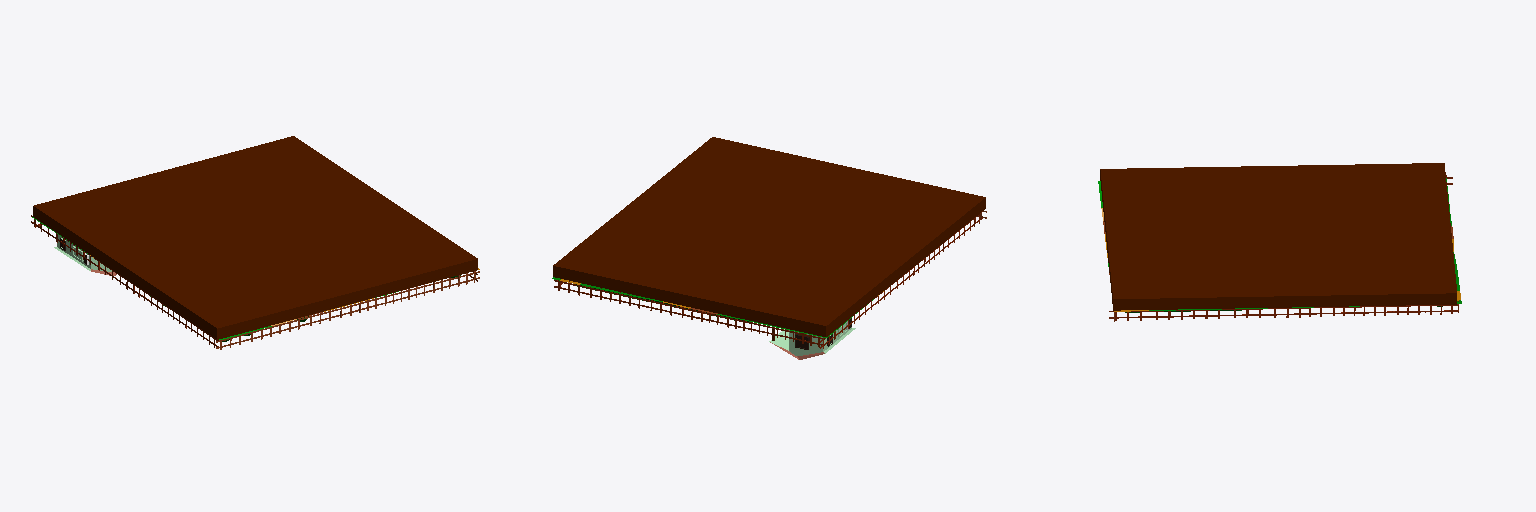
File: farm.obj
3 renders of one model, left to right at view 1: azimuth 30°, elevation 25°; view 2: azimuth 150°, elevation 25°; view 3: azimuth 270°, elevation 25°, orthographic.
Visible parts, largest first — view 1: Cube.1; view 2: Cube.1; view 3: Cube.1.
Part boxes in pixels (x1,y1,x2,y2): Cube.1: (31,136,479,349); Cube.1: (552,137,986,359); Cube.1: (1098,163,1461,321).
Size of the model in its own units: 796 by 131 by 884.